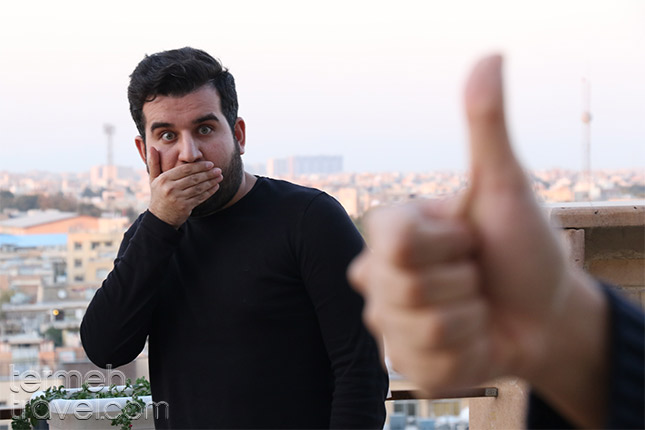thumbsUp: (344, 36, 585, 409)
